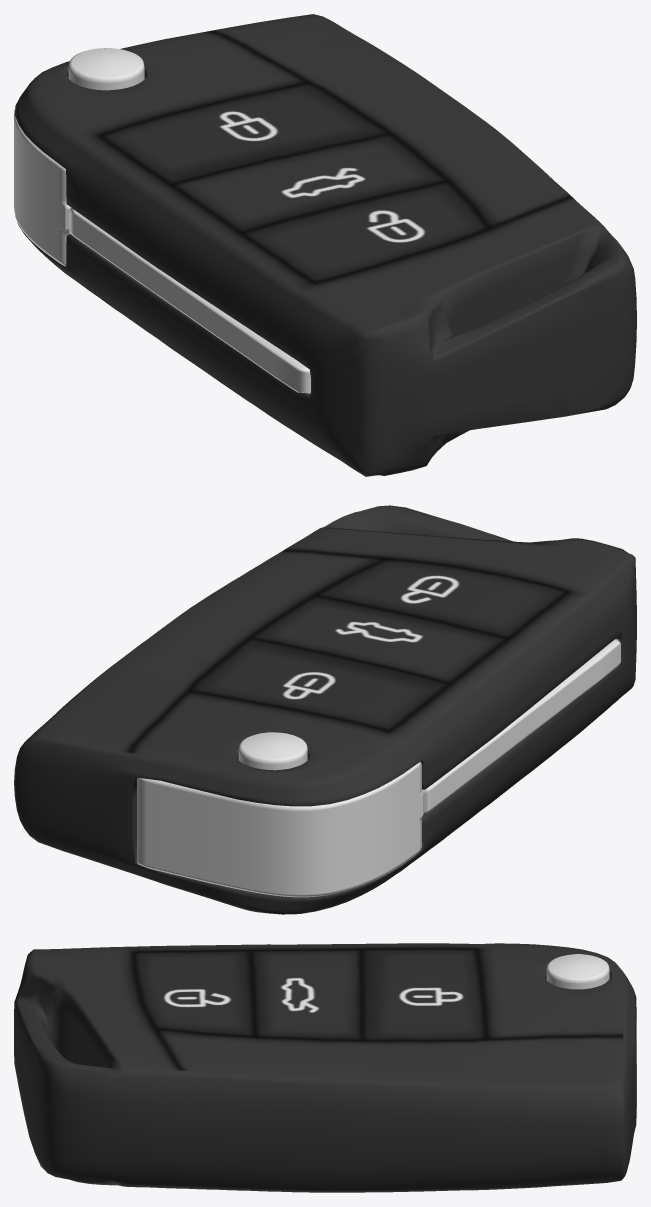
Rendered from carkey.gltf.
3 views of the same model, one above another, from view 1: azimuth 30°, elevation 25°; view 2: azimuth 150°, elevation 25°; view 3: azimuth 270°, elevation 25° (orthographic). The views are drawn at different scales.
Visible parts, largest first — view 1: Plastic_2, Metal_1; view 2: Plastic_2, Metal_1; view 3: Plastic_2, Metal_1.
Part boxes in pixels (x1,y1,x2,y2): Plastic_2: [15, 14, 636, 476]; Metal_1: [14, 48, 310, 393]; Plastic_2: [14, 505, 636, 914]; Metal_1: [137, 638, 620, 897]; Plastic_2: [14, 943, 636, 1192]; Metal_1: [546, 954, 636, 1118].
Bounding box in the file's own units: 0.0461 × 0.0204 × 0.0814.
Materials: 3 (2 with a texture image).
